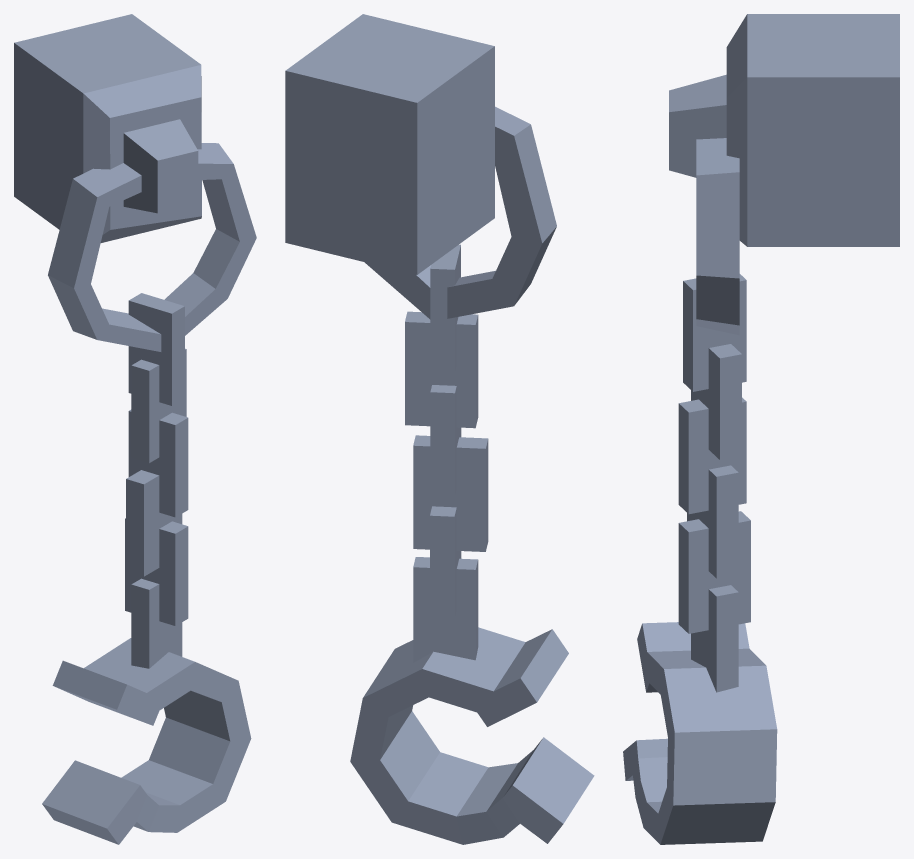
File: Slave ring_00.FBX
The picture shows the model from 3 angles, left to right: view 1: azimuth 30°, elevation 25°; view 2: azimuth 150°, elevation 25°; view 3: azimuth 270°, elevation 25°; orthographic projection. The views are drawn at different scales.
Parts seen in each view (by area): view 1: Slave ring_00; view 2: Slave ring_00; view 3: Slave ring_00.
Boxes of the visible parts, bbox=[...] form: Slave ring_00: bbox=[14, 14, 256, 844]; Slave ring_00: bbox=[285, 14, 594, 844]; Slave ring_00: bbox=[623, 14, 899, 844].
Size of the model in its own units: 18.27 by 60.53 by 19.11.
